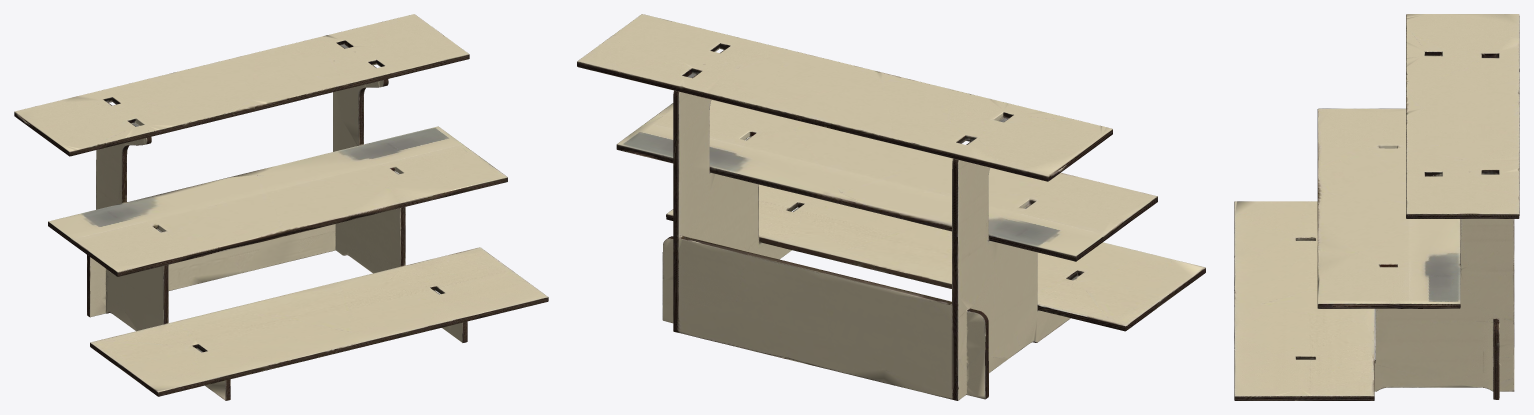
The model's file is 3tier-shelf-draco.glb.
The picture shows the model from 3 angles, left to right: view 1: azimuth 30°, elevation 25°; view 2: azimuth 150°, elevation 25°; view 3: azimuth 270°, elevation 25°; orthographic projection. The views are drawn at different scales.
Bounding box in the file's own units: 1.9 × 0.9647 × 1.14.
Materials: 1 (1 with a texture image).
